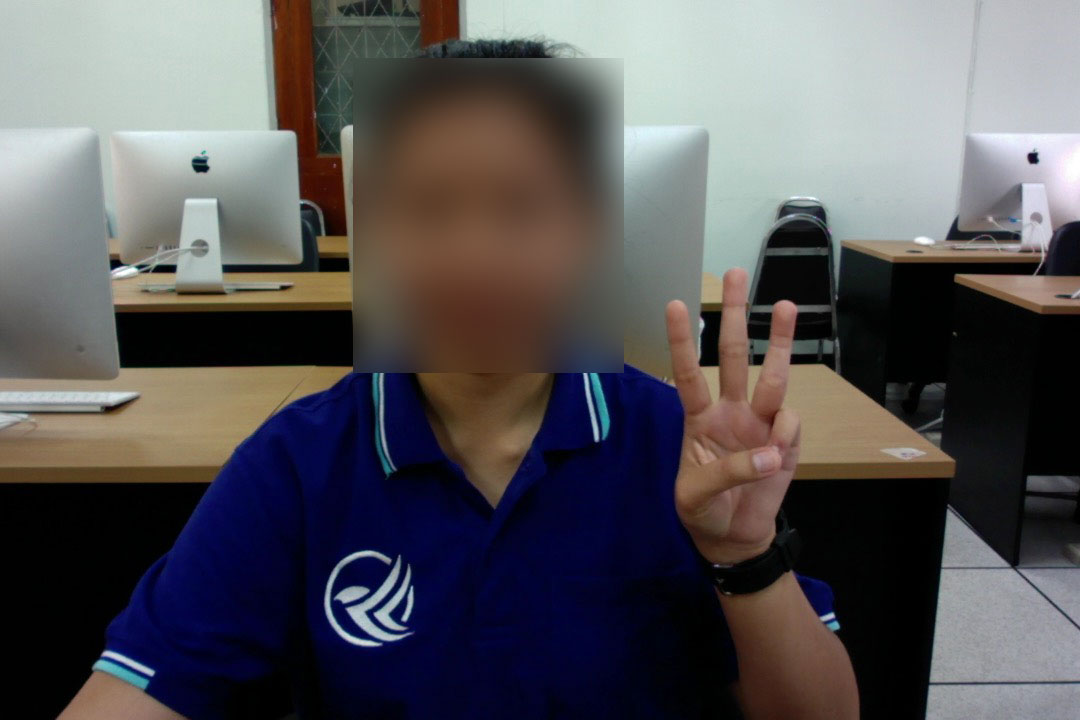wor: (649, 262, 809, 554)
